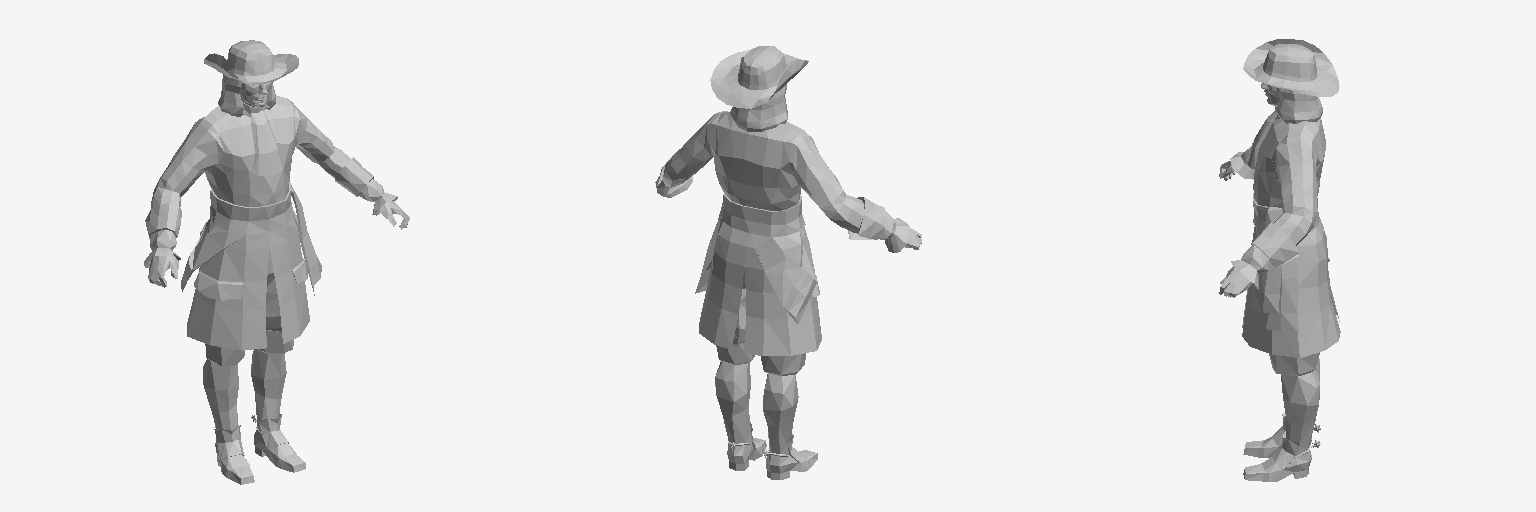
The model's file is people.obj.
The picture shows the model from 3 angles: view 1: azimuth 30°, elevation 25°; view 2: azimuth 150°, elevation 25°; view 3: azimuth 270°, elevation 25°; orthographic projection.
Visible parts, largest first — view 1: objDragoon_1; view 2: objDragoon_1; view 3: objDragoon_1.
Boxes of the visible parts, x1,y1,x2,y2 form: objDragoon_1: [144, 40, 409, 484]; objDragoon_1: [655, 46, 921, 479]; objDragoon_1: [1219, 39, 1340, 481].
Bounding box in the file's own units: 11.68 × 18.08 × 4.77.